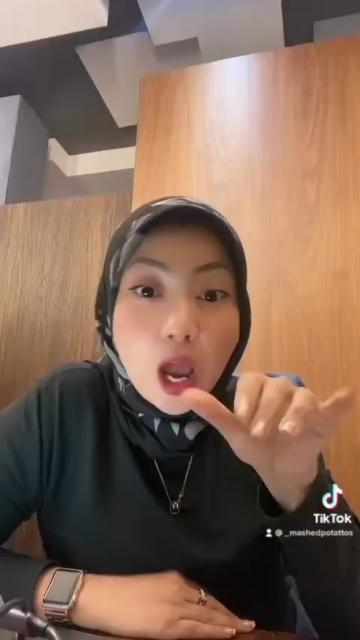Y: (181, 368, 360, 478)
